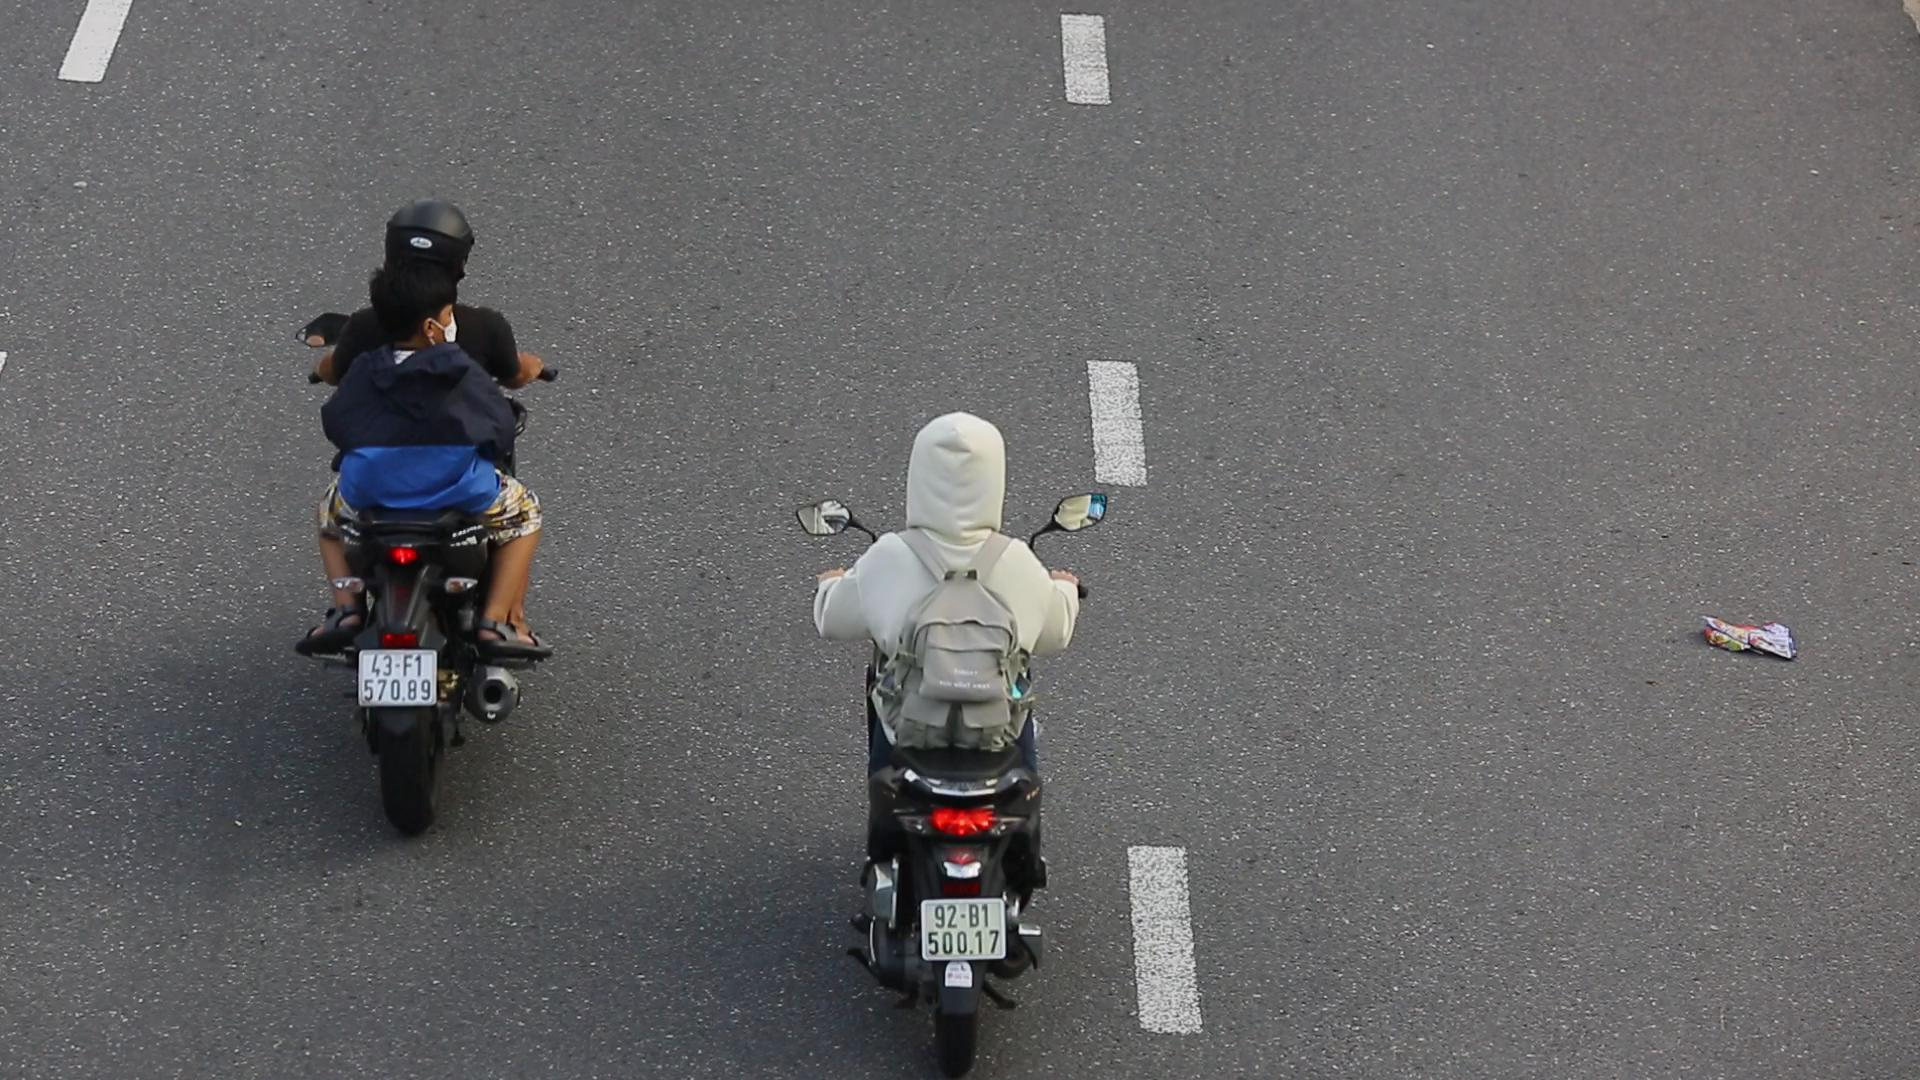motobike: (808, 397, 1110, 1080), (287, 182, 570, 839)
